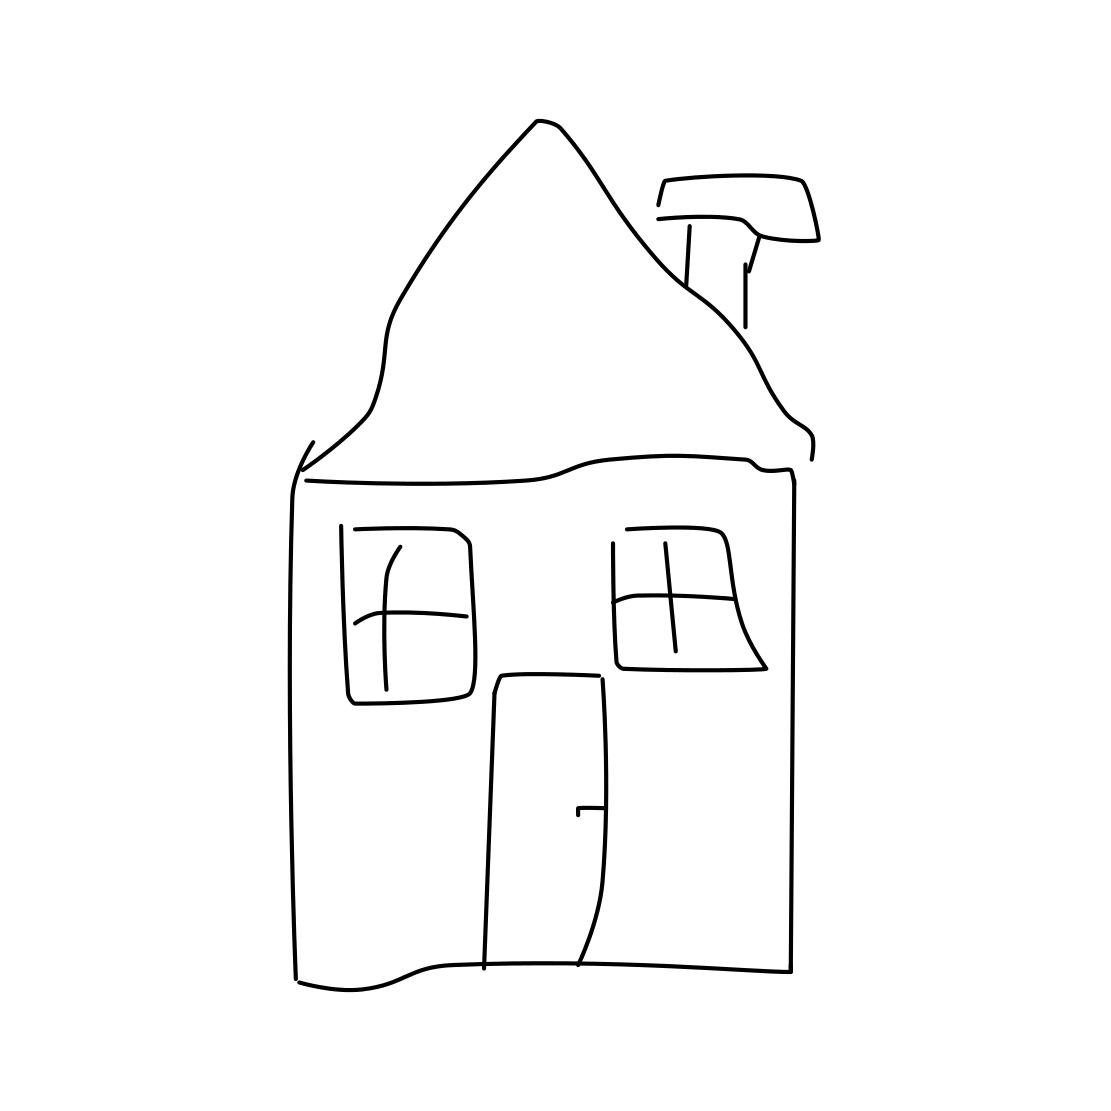House: (218, 98, 880, 1016)
